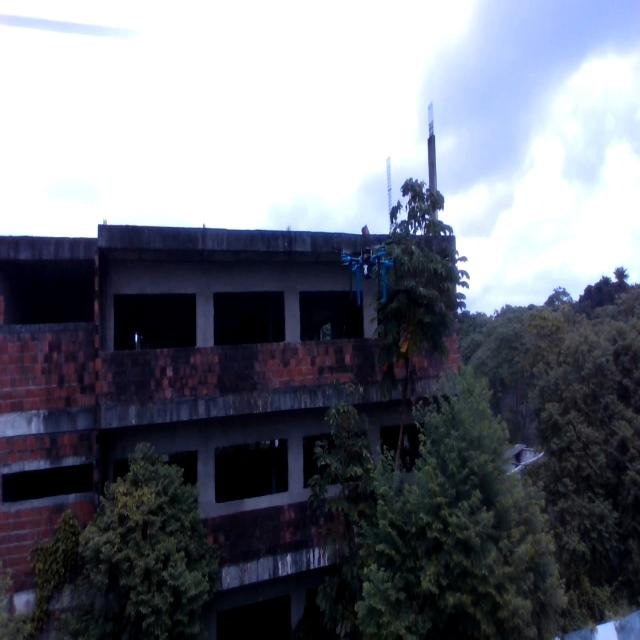-uav-: (334, 231, 407, 322)
